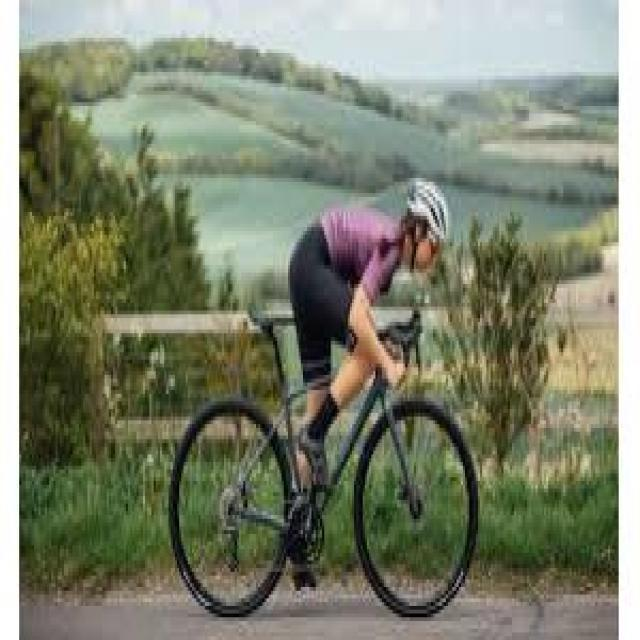bicycle: (172, 285, 479, 622)
